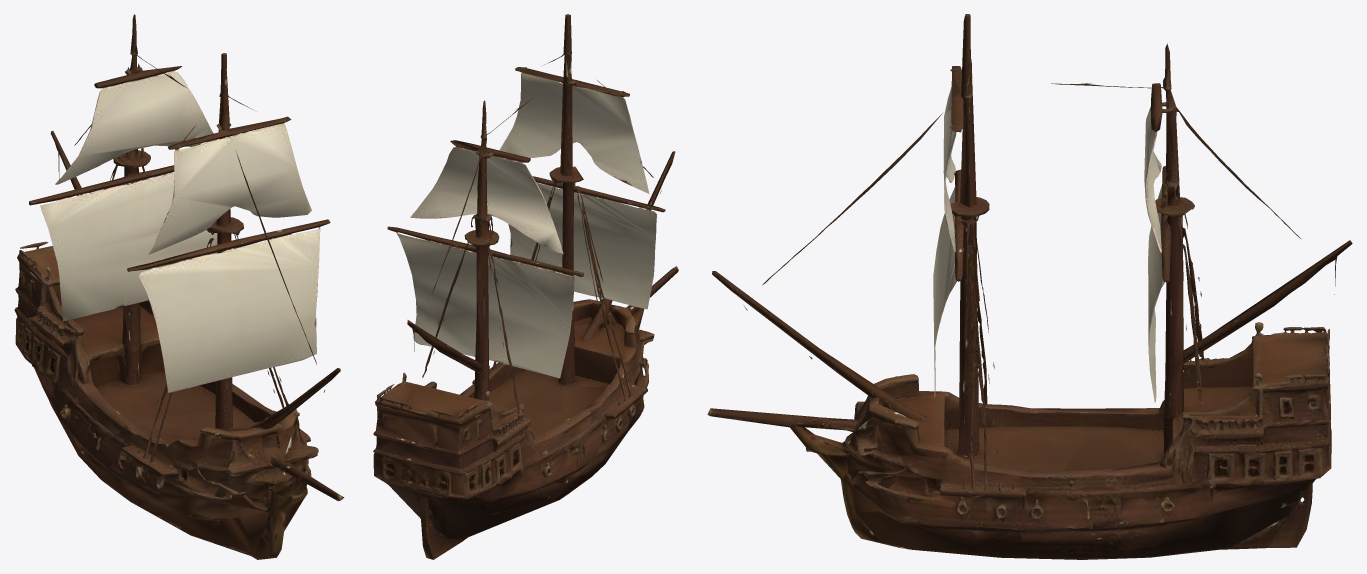
The model's file is ship.glb.
The picture shows the model from 3 angles, left to right: view 1: azimuth 30°, elevation 25°; view 2: azimuth 150°, elevation 25°; view 3: azimuth 270°, elevation 25°; orthographic projection. The views are drawn at different scales.
Visible parts, largest first — view 1: Mesh; view 2: Mesh; view 3: Mesh.
Part boxes in pixels (<box>): Mesh: <box>14,14,344,559</box>; Mesh: <box>373,14,678,559</box>; Mesh: <box>707,14,1352,559</box>.
Size of the model in its own units: 0.8002 by 1.74 by 1.92.
1 material, 1 textured.
